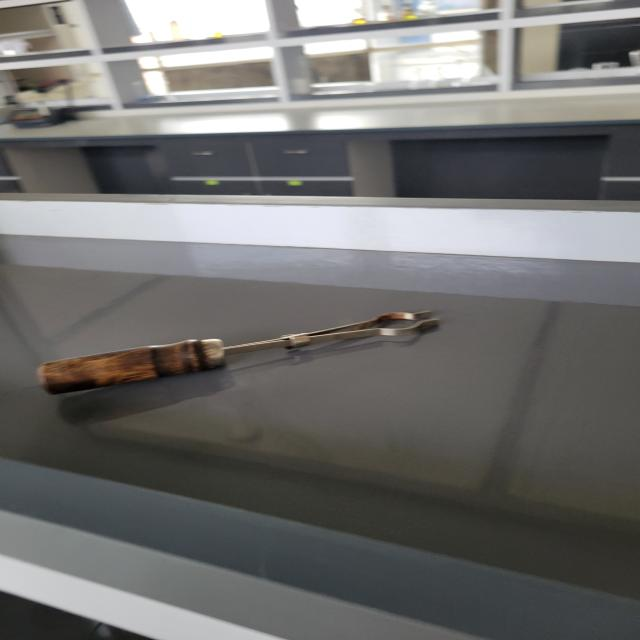TestTube_Holder: (5, 291, 460, 422)
